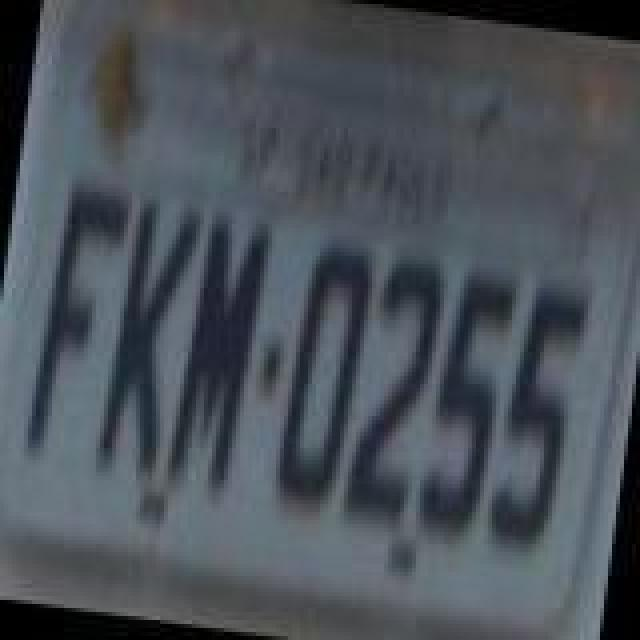2: (338, 246, 446, 530)
5: (480, 274, 592, 558), (410, 262, 518, 546)
F: (24, 176, 136, 464)
K: (96, 190, 208, 482)
M: (160, 204, 272, 500)
O: (270, 234, 378, 518)
